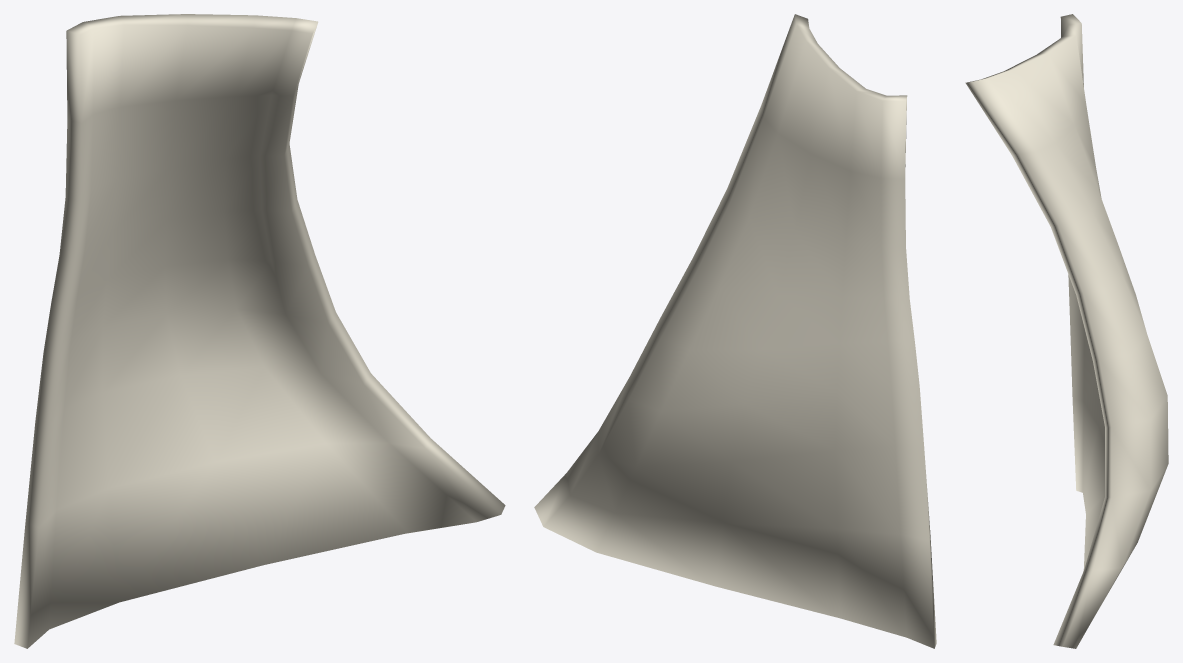
The picture shows the model from 3 angles, left to right: view 1: azimuth 30°, elevation 25°; view 2: azimuth 150°, elevation 25°; view 3: azimuth 270°, elevation 25°; orthographic projection. The views are drawn at different scales.
Visible parts, largest first — view 1: ZA_5f00622d8fe1e1c3; view 2: ZA_5f00622d8fe1e1c3; view 3: ZA_5f00622d8fe1e1c3.
Part boxes in pixels (x1,y1,x2,y2): ZA_5f00622d8fe1e1c3: [14, 14, 505, 648]; ZA_5f00622d8fe1e1c3: [534, 14, 936, 648]; ZA_5f00622d8fe1e1c3: [965, 14, 1168, 648].
Bounding box in the file's own units: 0.0164 × 0.0204 × 0.00755.
